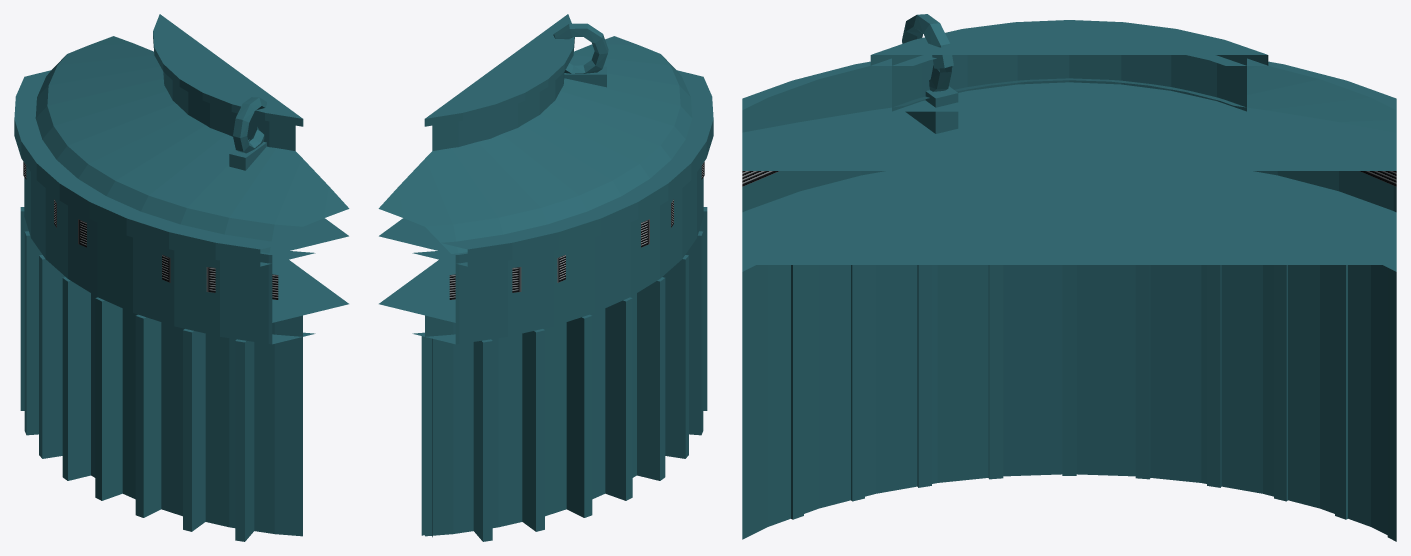
File: cell_52.obj
The picture shows the model from 3 angles, left to right: view 1: azimuth 30°, elevation 25°; view 2: azimuth 150°, elevation 25°; view 3: azimuth 270°, elevation 25°; orthographic projection. The views are drawn at different scales.
Bounding box in the file's own units: 0.421 × 0.8967 × 1.
